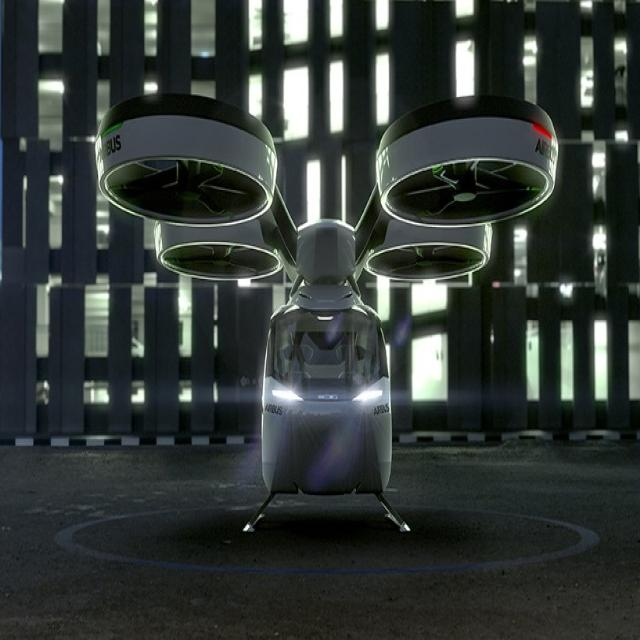drone: (91, 87, 560, 541)
